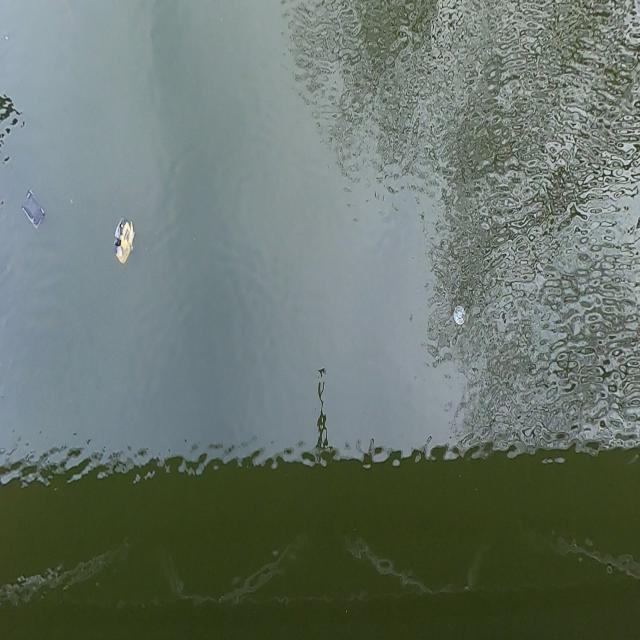Autre plastique: (111, 213, 140, 269), (19, 186, 48, 230), (452, 301, 469, 328)
